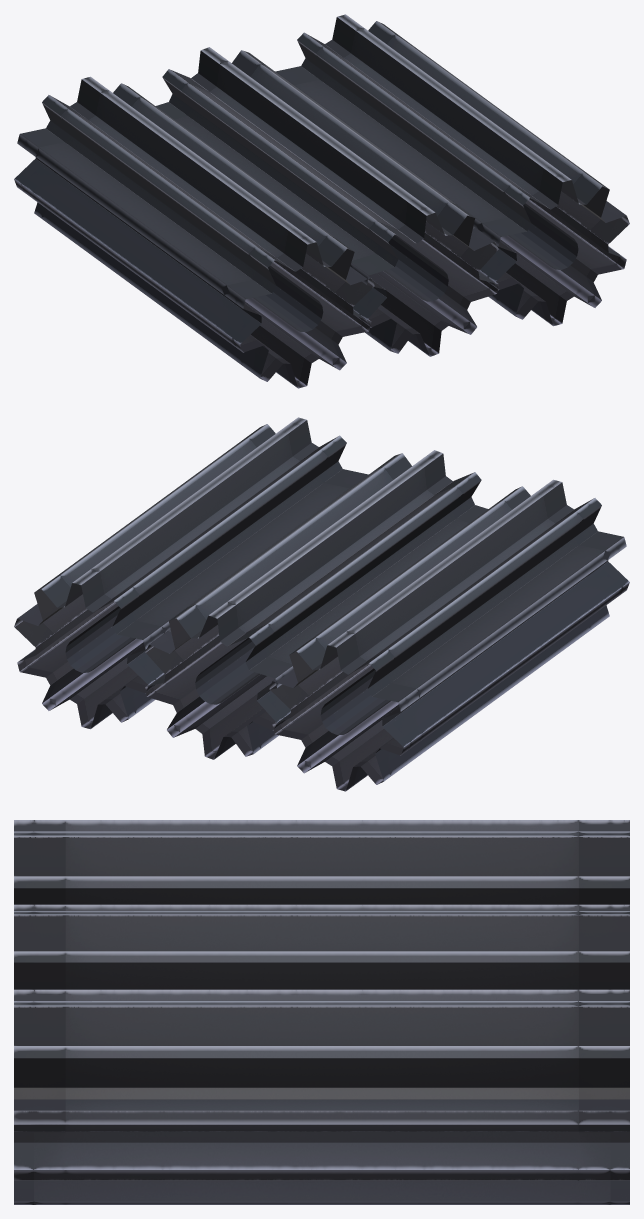
The model's file is Gear Penggiling.fbx.
3 renders of one model, top to bottom at view 1: azimuth 30°, elevation 25°; view 2: azimuth 150°, elevation 25°; view 3: azimuth 270°, elevation 25°, orthographic. The views are drawn at different scales.
Visible parts, largest first — view 1: Penggiling, Penggiling.001, Penggiling 2; view 2: Penggiling, Penggiling.001, Penggiling 2; view 3: Penggiling.001, Penggiling 2, Penggiling.
Part boxes in pixels (x1,y1,x2,y2): Penggiling: (14, 76, 374, 388); Penggiling.001: (275, 14, 629, 326); Penggiling 2: (156, 47, 498, 356); Penggiling: (269, 479, 629, 791); Penggiling.001: (14, 417, 368, 729); Penggiling 2: (145, 450, 487, 759); Penggiling.001: (14, 989, 629, 1204); Penggiling 2: (14, 904, 629, 989); Penggiling: (14, 820, 629, 904).
Size of the model in its own units: 148 by 52.06 by 149.
Materials: 1 (1 with a texture image).
